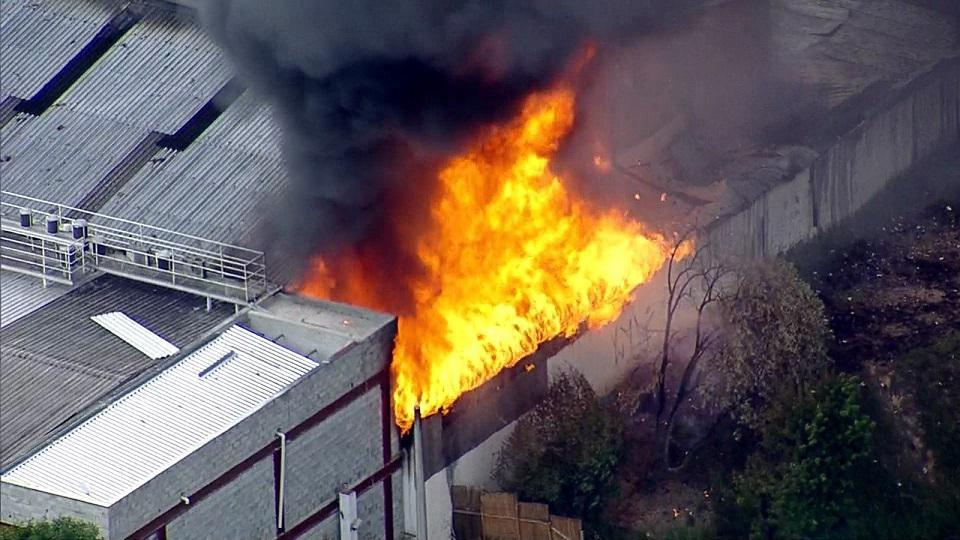Fire: (381, 81, 697, 433), (300, 247, 371, 307)
